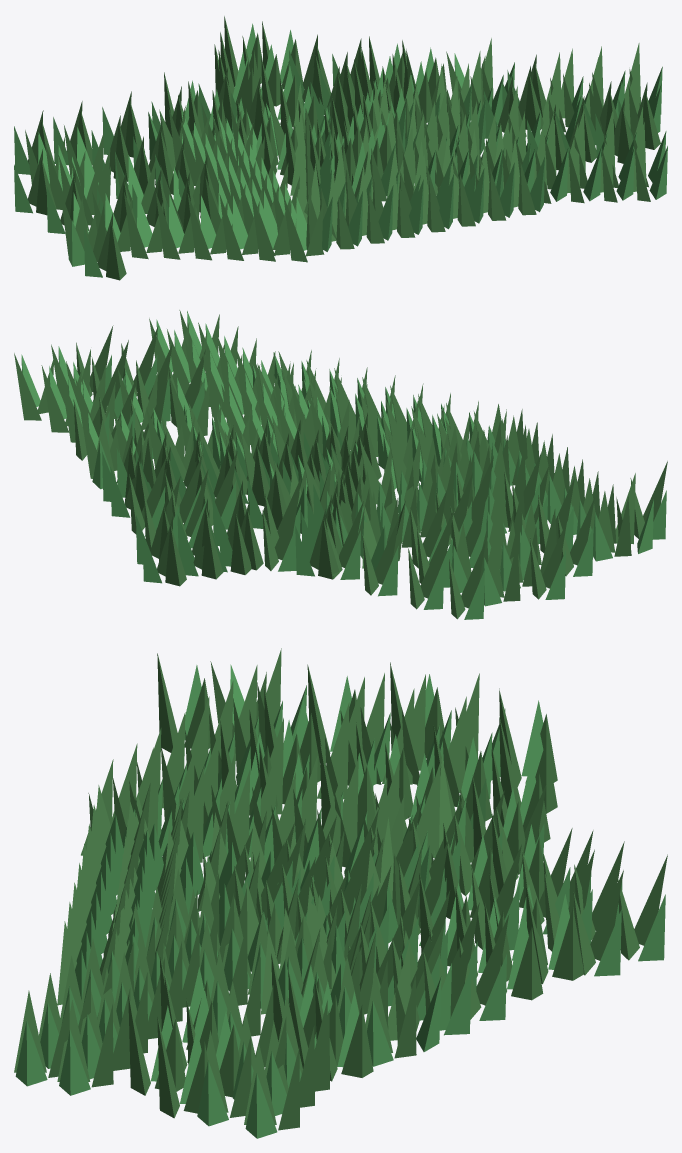
File: grass.fbx
The picture shows the model from 3 angles, top to bottom: view 1: azimuth 30°, elevation 25°; view 2: azimuth 150°, elevation 25°; view 3: azimuth 270°, elevation 25°; orthographic projection. The views are drawn at different scales.
Visible parts, largest first — view 1: Cone.490; view 2: Cone.490; view 3: Cone.490.
Boxes of the visible parts, x1,y1,x2,y2 form: Cone.490: (14, 16, 667, 280); Cone.490: (14, 310, 667, 619); Cone.490: (14, 648, 667, 1138).
Size of the model in its own units: 3281 by 329 by 2220.
